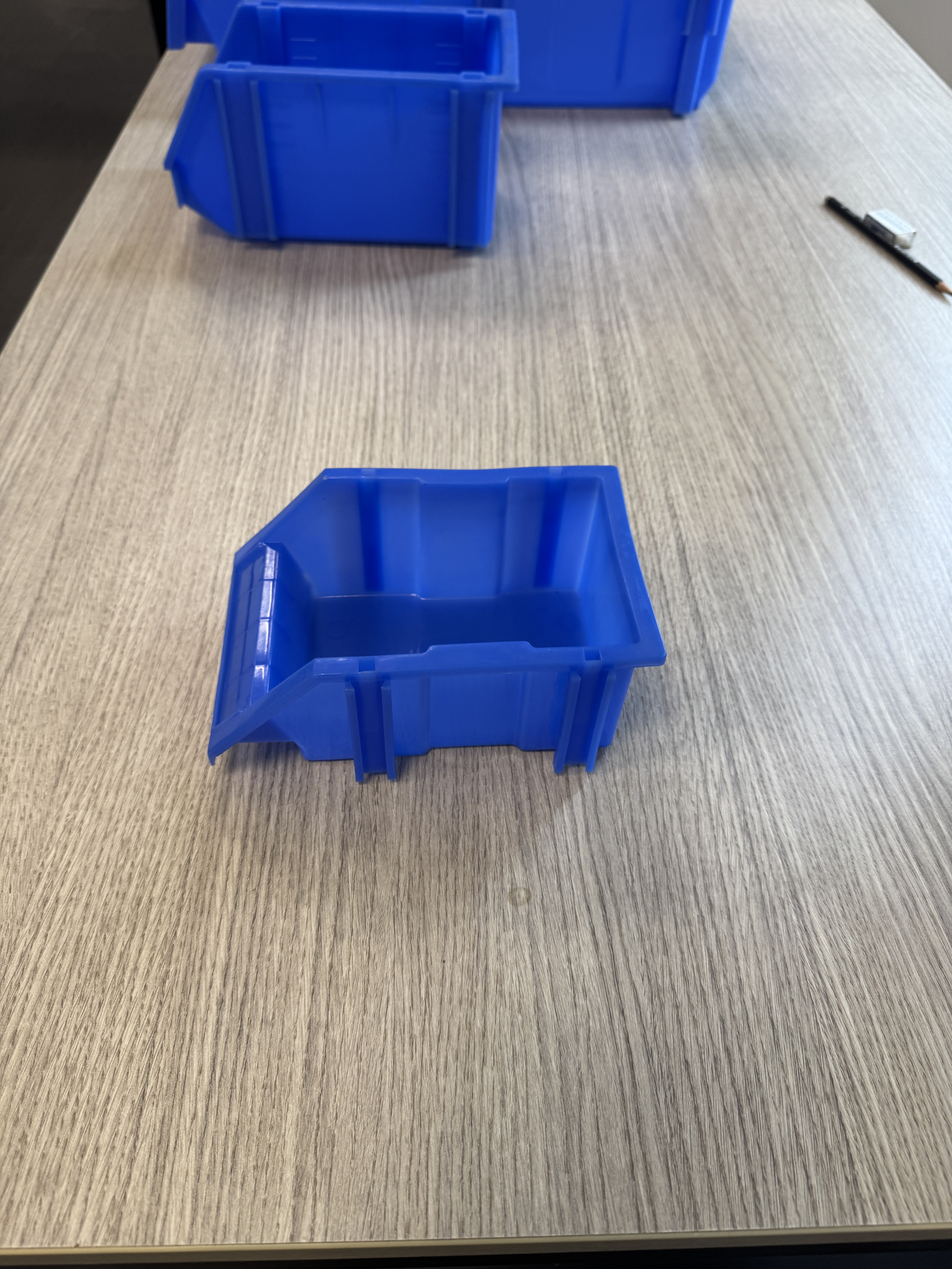Bin Boundary: (269, 475, 636, 685), (211, 2, 501, 74)
